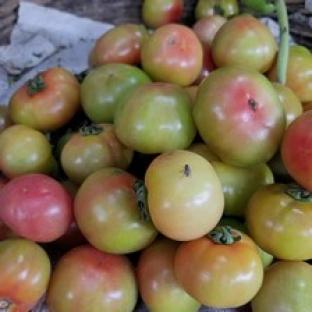Tomato: (193, 66, 285, 167), (175, 226, 263, 309), (74, 168, 157, 253), (145, 151, 224, 240), (46, 244, 137, 311), (115, 83, 196, 154), (0, 173, 73, 242), (246, 183, 311, 260), (137, 237, 200, 311), (60, 123, 133, 185), (9, 67, 80, 130), (81, 63, 150, 122), (141, 23, 203, 86), (212, 14, 277, 72), (0, 239, 51, 311), (211, 161, 274, 218), (251, 261, 311, 311), (0, 124, 52, 178), (90, 23, 149, 66), (280, 111, 311, 190), (286, 45, 311, 103), (273, 83, 303, 126), (193, 14, 227, 44), (193, 44, 215, 86), (218, 215, 247, 235), (189, 143, 220, 161), (0, 104, 12, 132)
